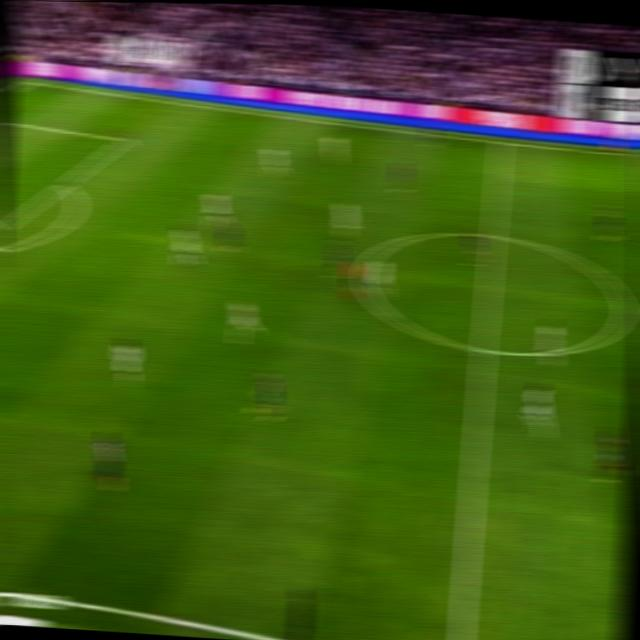bigarea_top_inner: (116, 131, 133, 147)
corner: (21, 73, 41, 87)
halfcircle_bottom: (471, 333, 496, 365)
halfcircle_top: (483, 223, 504, 248)
midline_top_intersection: (492, 136, 510, 152)
top_arc_area_intersection: (56, 174, 73, 193)
